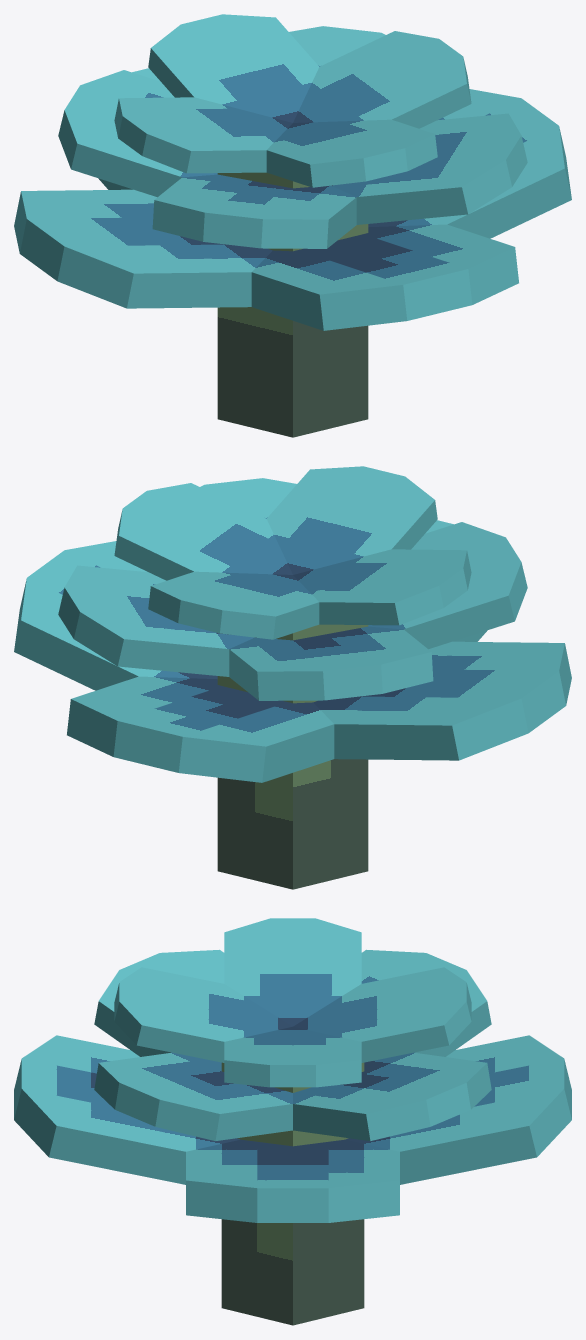
The model's file is water_princess.gltf.
3 views of the same model, one above another, from view 1: azimuth 30°, elevation 25°; view 2: azimuth 150°, elevation 25°; view 3: azimuth 270°, elevation 25° (orthographic). The views are drawn at different scales.
Visible parts, largest first — view 1: cube (×11), cylinder; view 2: cube (×11), cylinder; view 3: cube (×11), cylinder.
Boxes of the visible parts, bbox=[...] form: cube (×11): bbox=[14, 14, 571, 330]; cylinder: bbox=[217, 172, 368, 437]; cube (×11): bbox=[14, 466, 571, 782]; cylinder: bbox=[217, 624, 368, 889]; cube (×11): bbox=[14, 918, 571, 1222]; cylinder: bbox=[221, 1062, 364, 1325].
Bounding box in the file's own units: 0.9763 × 0.5771 × 0.9763.
Materials: 1 (1 with a texture image).
